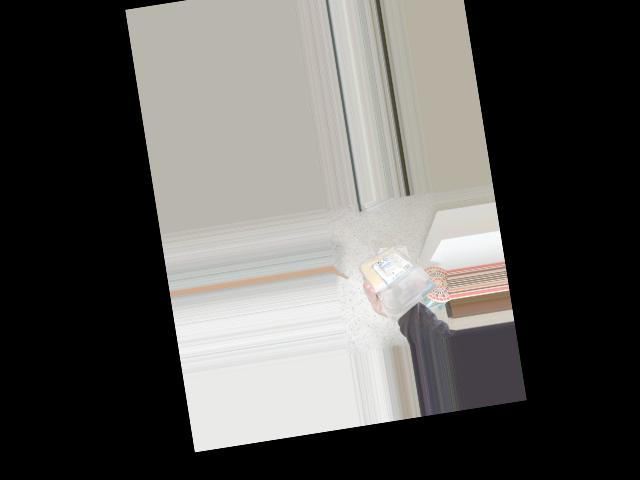cheese: (365, 235, 440, 319)
